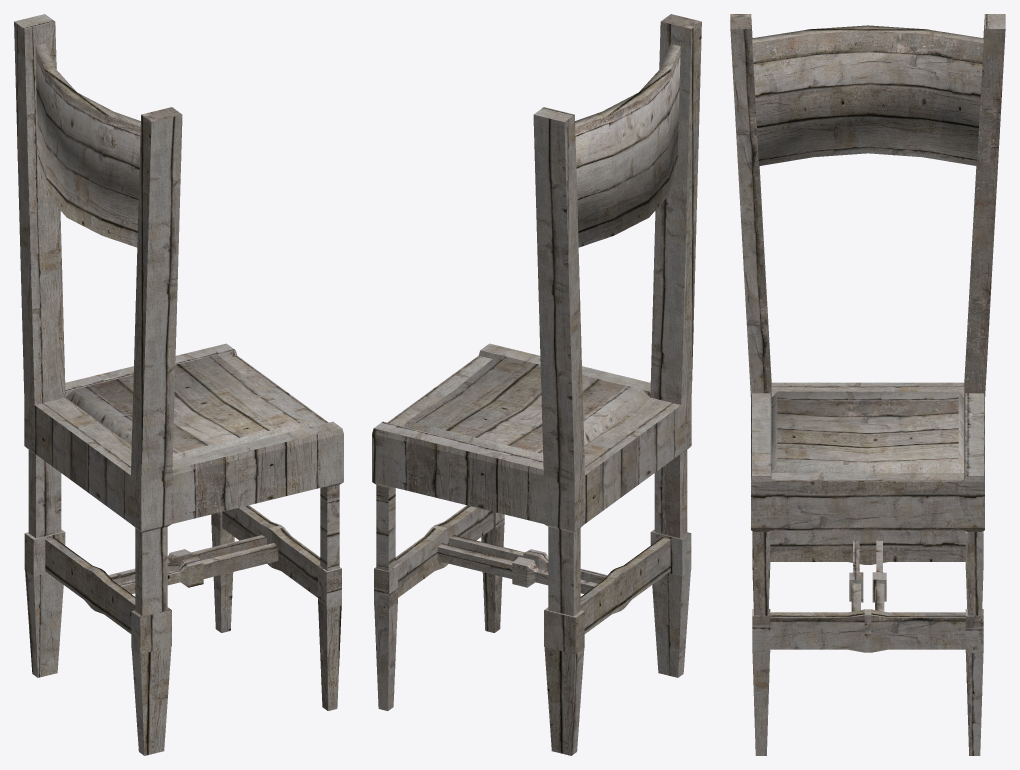
The model's file is woodenchair.fbx.
3 views of the same model, side by side, from view 1: azimuth 30°, elevation 25°; view 2: azimuth 150°, elevation 25°; view 3: azimuth 270°, elevation 25° (orthographic).
Parts seen in each view (by area): view 1: Cube.001; view 2: Cube.001; view 3: Cube.001.
Part boxes in pixels (left/top/right/bottom): Cube.001: left=14, top=14, right=343, bottom=755; Cube.001: left=372, top=14, right=701, bottom=755; Cube.001: left=730, top=14, right=1005, bottom=755.
Size of the model in its own units: 10.92 by 30.77 by 11.9.
1 material, 1 textured.
